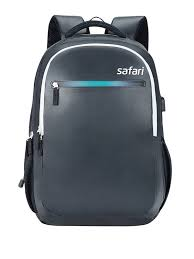backpack: (18, 14, 172, 226)
